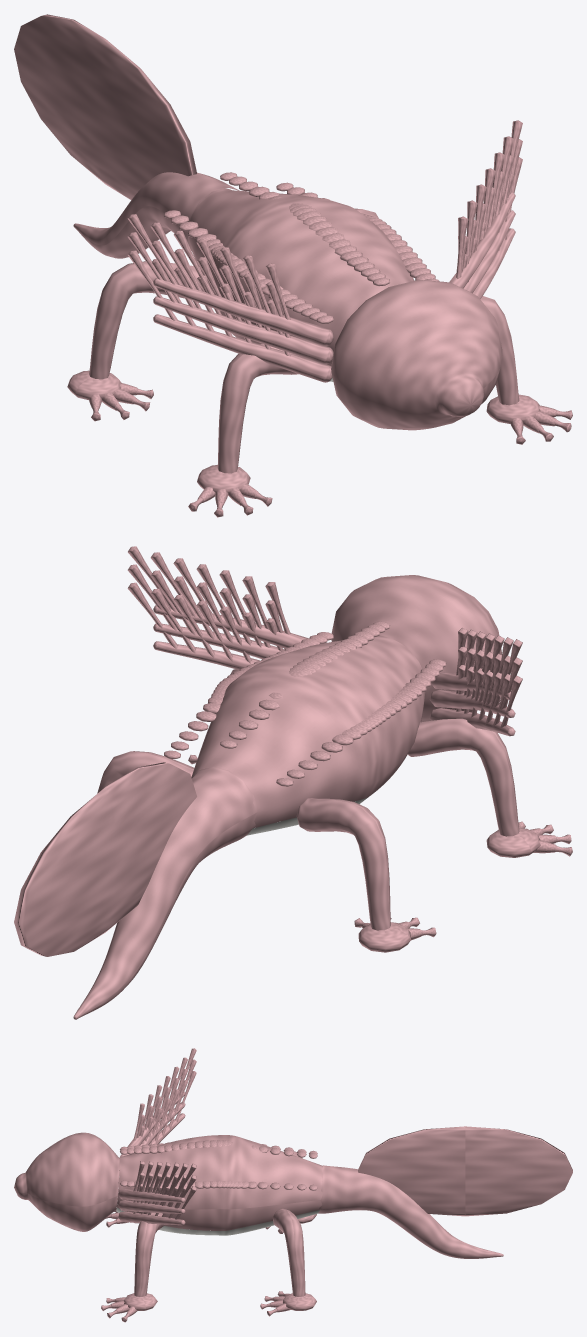
Rendered from birds-and-reptiles-hd-axolotl-5de12cac__28106.glb.
3 renders of one model, top to bottom at view 1: azimuth 30°, elevation 25°; view 2: azimuth 150°, elevation 25°; view 3: azimuth 270°, elevation 25°, orthographic. The views are drawn at different scales.
Parts seen in each view (by area): view 1: axolotl; view 2: axolotl; view 3: axolotl.
Boxes of the visible parts, x1=… form: axolotl: x1=14, y1=14, x2=572, y2=517; axolotl: x1=14, y1=546, x2=572, y2=1019; axolotl: x1=14, y1=1048, x2=572, y2=1322.
Bounding box in the file's own units: 0.1689 × 0.1061 × 0.3375.
Materials: 4 (3 with a texture image).
